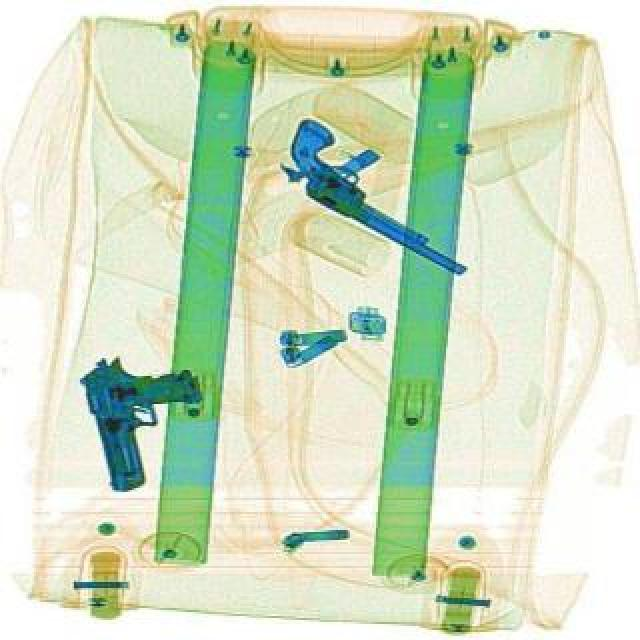gun: (266, 114, 496, 280), (76, 342, 218, 496)
